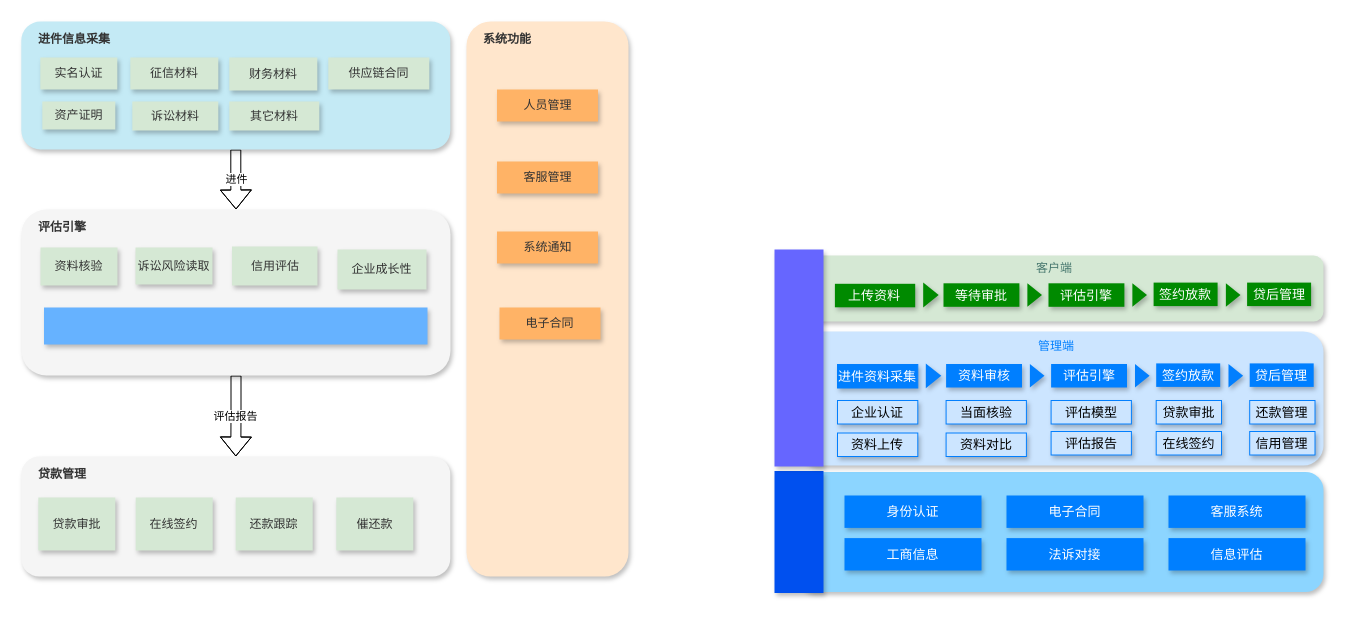
Image size: 1347x617. Some labels were removed from this diagram. Each missing label, with the centre of its shape:
底 层 能 力: (x=799, y=533)
红黄蓝报告: (x=236, y=327)
进 件 管 理 一 站 式 平 台: (x=799, y=359)
